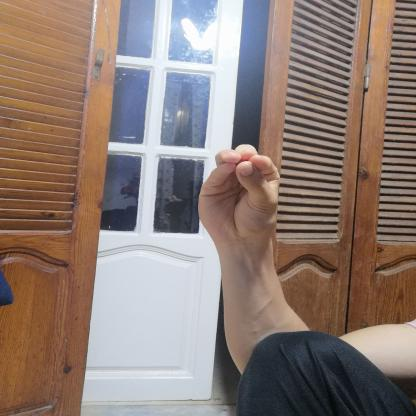HA: (187, 132, 295, 258)
